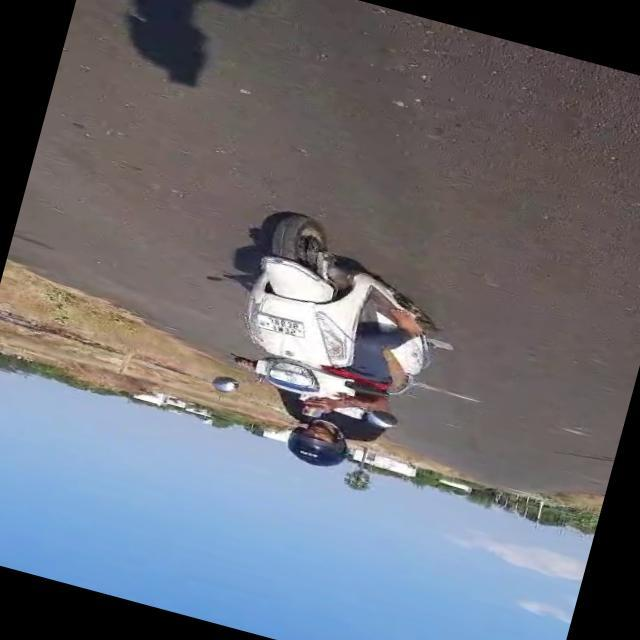USING_MOBILE: (282, 390, 358, 471)
